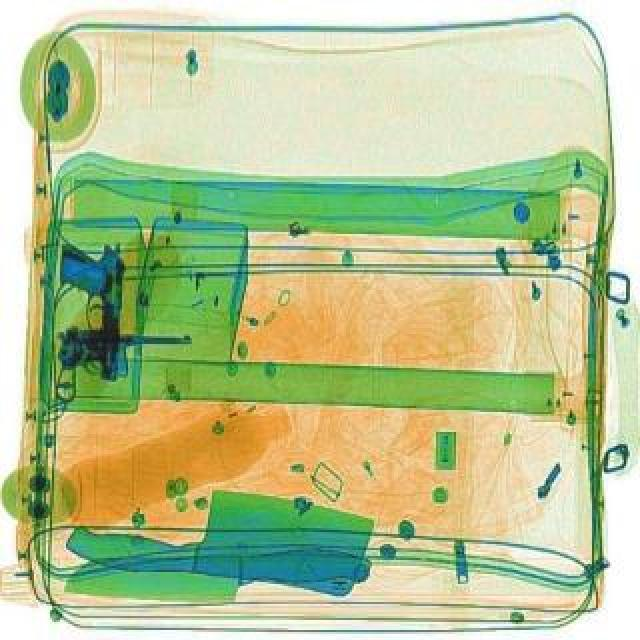gun: (52, 322, 192, 408), (54, 238, 126, 378)
knife: (62, 458, 374, 612), (64, 530, 372, 606)
